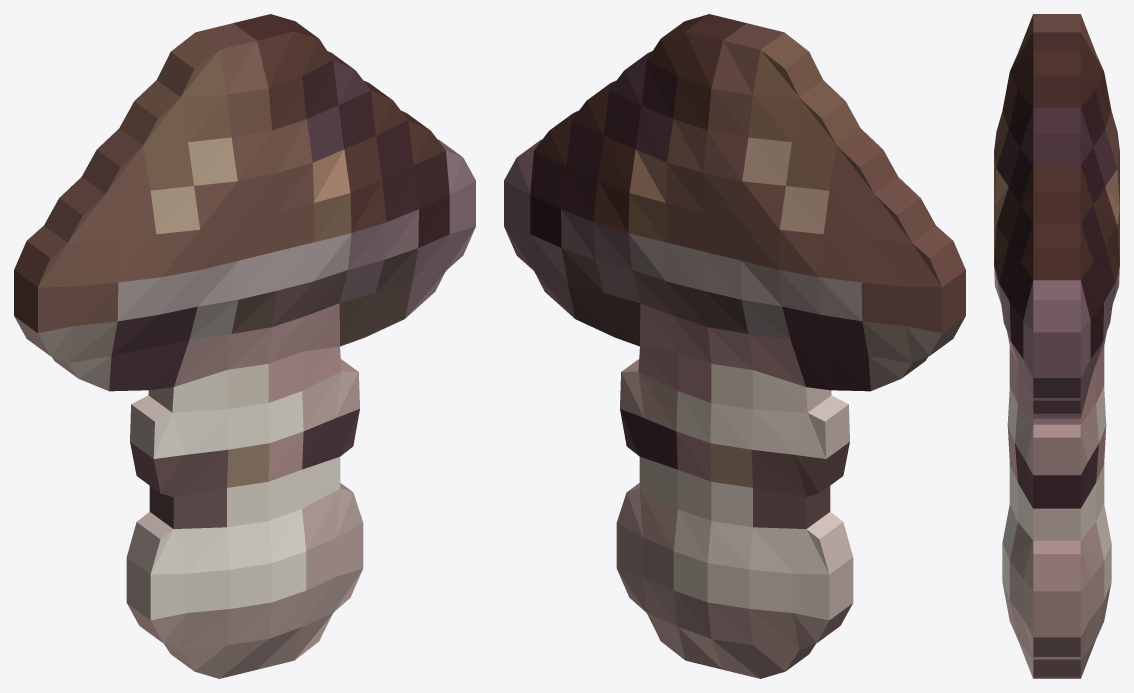
The model's file is shadowcap_mushroom.glb.
3 views of the same model, side by side, from view 1: azimuth 30°, elevation 25°; view 2: azimuth 150°, elevation 25°; view 3: azimuth 270°, elevation 25° (orthographic).
Parts seen in each view (by area): view 1: shadowcap_mushroom; view 2: shadowcap_mushroom; view 3: shadowcap_mushroom.
Boxes of the visible parts, x1=… form: shadowcap_mushroom: x1=14, y1=14, x2=475, y2=678; shadowcap_mushroom: x1=504, y1=14, x2=965, y2=678; shadowcap_mushroom: x1=994, y1=14, x2=1119, y2=678.
Size of the model in its own units: 0.7287 by 1 by 0.1813.
Materials: 1 (1 with a texture image).
